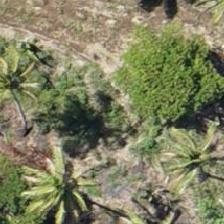coconut_tree: (139, 119, 223, 209), (10, 148, 100, 223), (0, 29, 48, 119)
